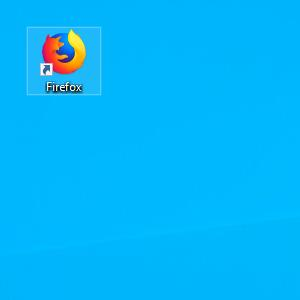firefox: (39, 29, 86, 76)
